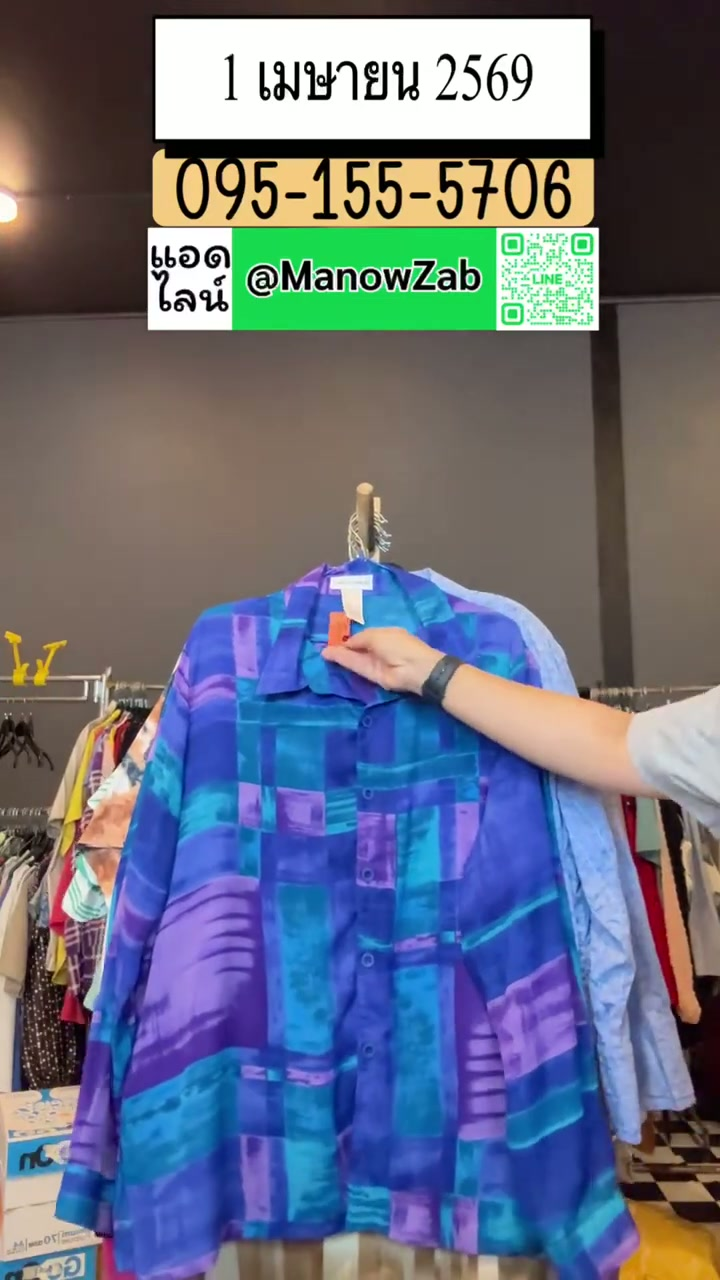display_shirt: (60, 563, 632, 1279)
